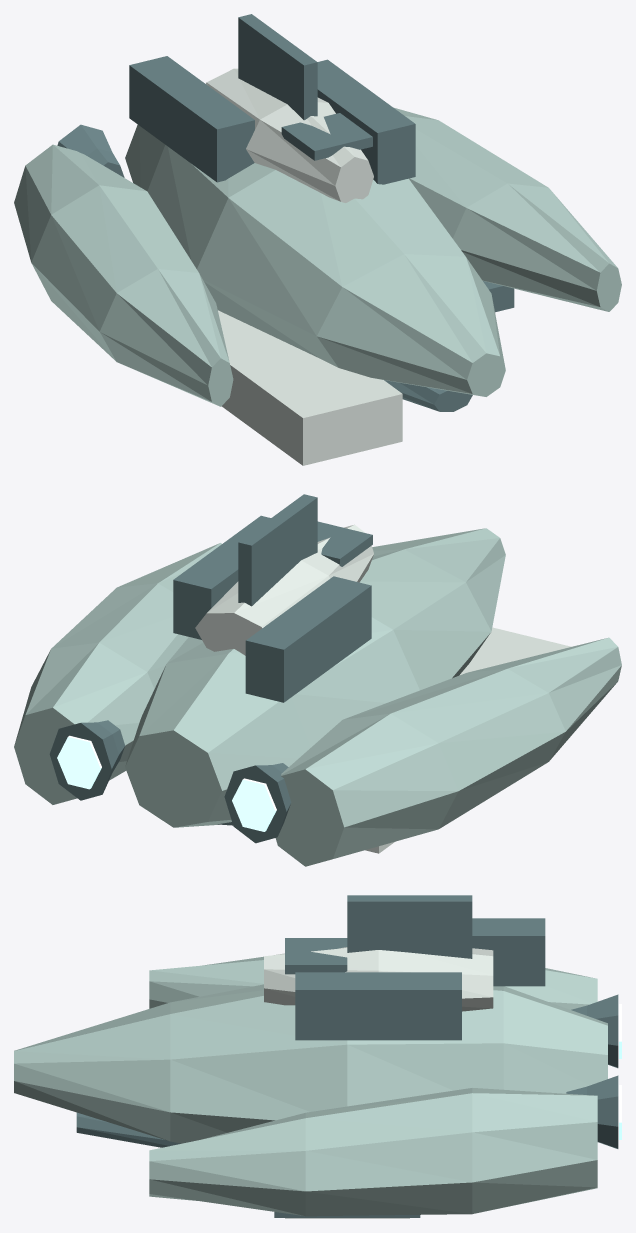
3 views of the same model, one above another, from view 1: azimuth 30°, elevation 25°; view 2: azimuth 150°, elevation 25°; view 3: azimuth 270°, elevation 25° (orthographic). The views are drawn at different scales.
Bounding box in the file's own units: 7.36 × 4.23 × 8.75.
